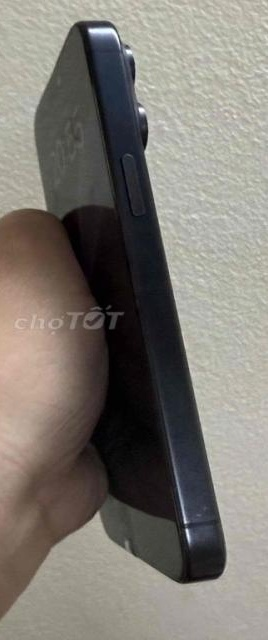scratch: (172, 481, 251, 542)
